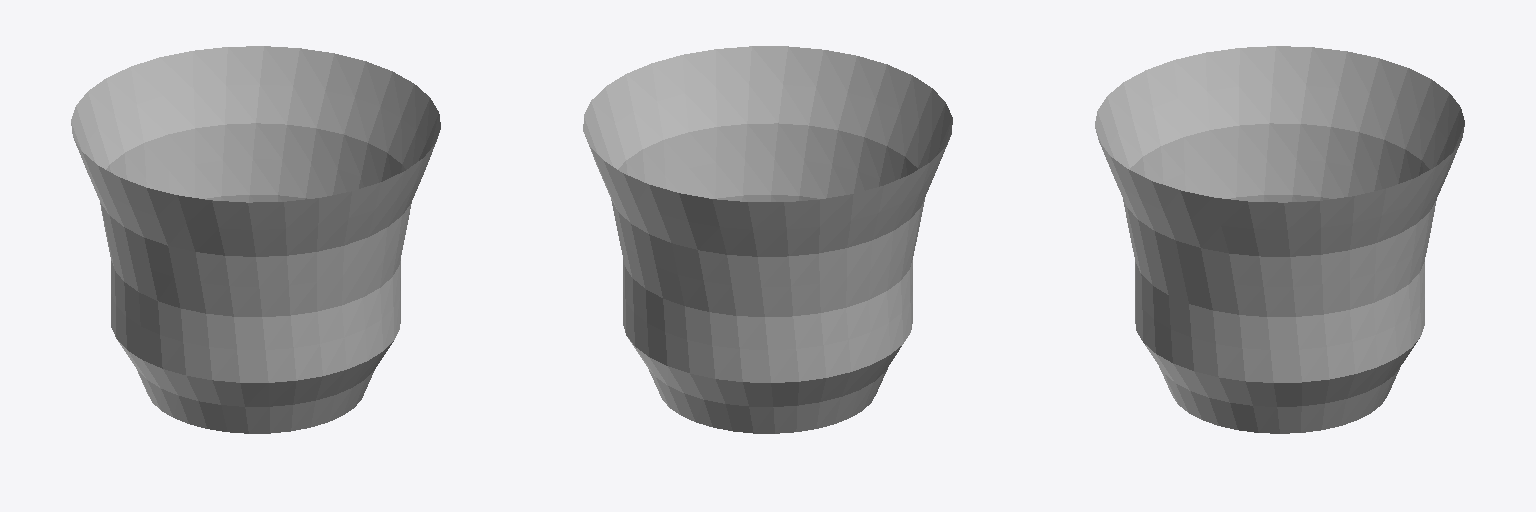
The model's file is vortex.obj.
3 renders of one model, left to right at view 1: azimuth 30°, elevation 25°; view 2: azimuth 150°, elevation 25°; view 3: azimuth 270°, elevation 25°, orthographic.
Parts seen in each view (by area): view 1: Cylinder; view 2: Cylinder; view 3: Cylinder.
Boxes of the visible parts, x1=… form: Cylinder: x1=71, y1=46, x2=440, y2=433; Cylinder: x1=583, y1=46, x2=952, y2=433; Cylinder: x1=1095, y1=46, x2=1464, y2=433.
Bounding box in the file's own units: 2.55 × 2 × 2.55.